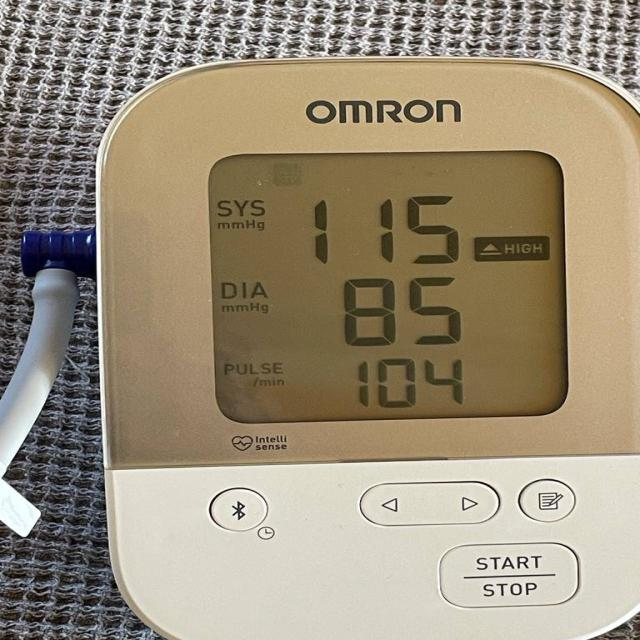bp: (94, 57, 639, 639)
